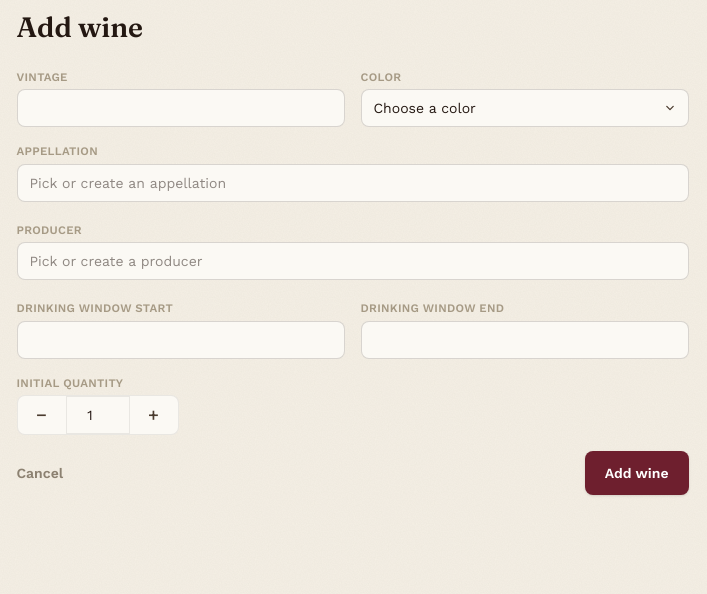
WineFormView — add › blocks submit and shows a field error when quantity is cleared
Clear the number field with test id "wine-quantity-input": [98, 415] box [66, 396, 130, 434]
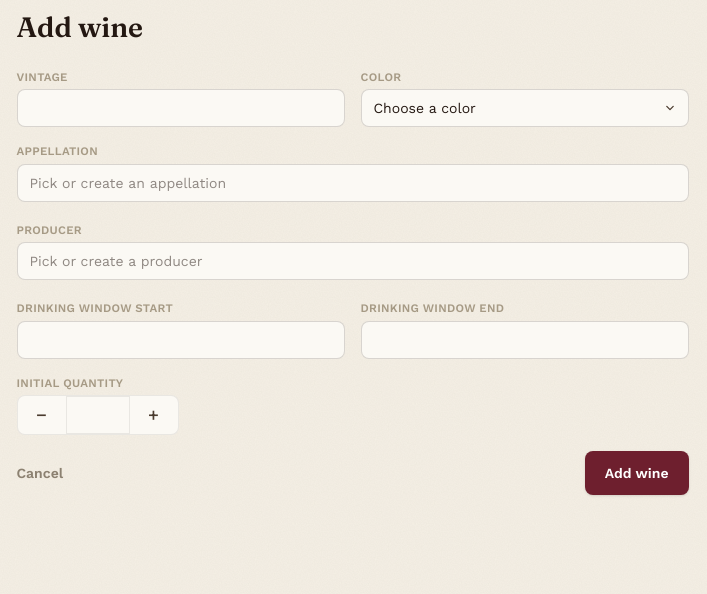
Submit the form with test id "wine-form"
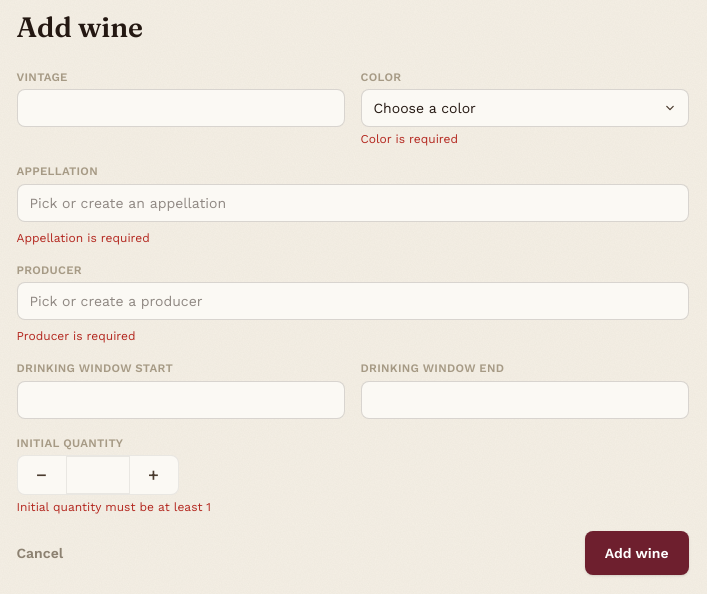
Now the text "Initial quantity must be at least 1" is shown, box [16, 500, 211, 514]
